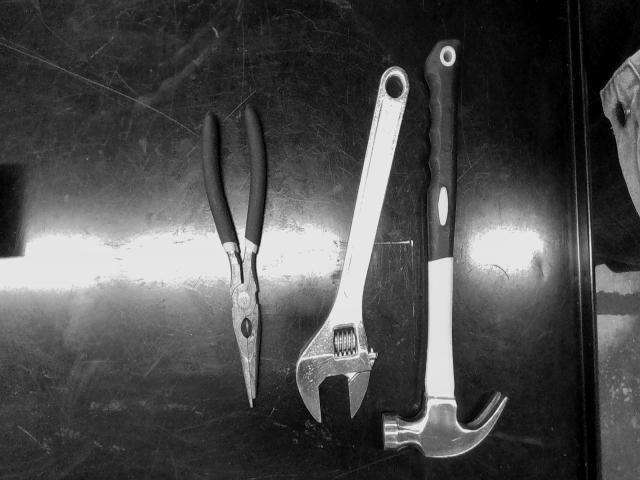Adjustable spanner: (296, 67, 409, 421)
Hammer: (382, 40, 508, 458)
Needle-nose pliers: (202, 107, 265, 406)
